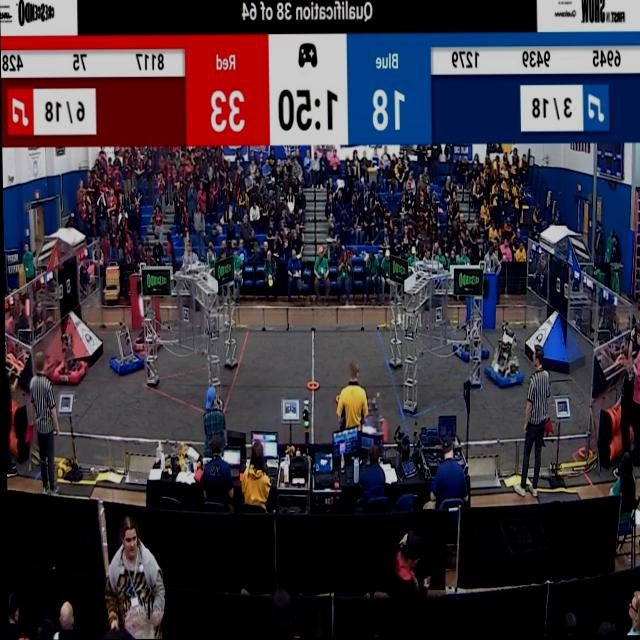Robot: (52, 317, 91, 389), (483, 323, 522, 391), (107, 319, 141, 381), (132, 294, 164, 359), (354, 386, 387, 448), (453, 312, 487, 368)
